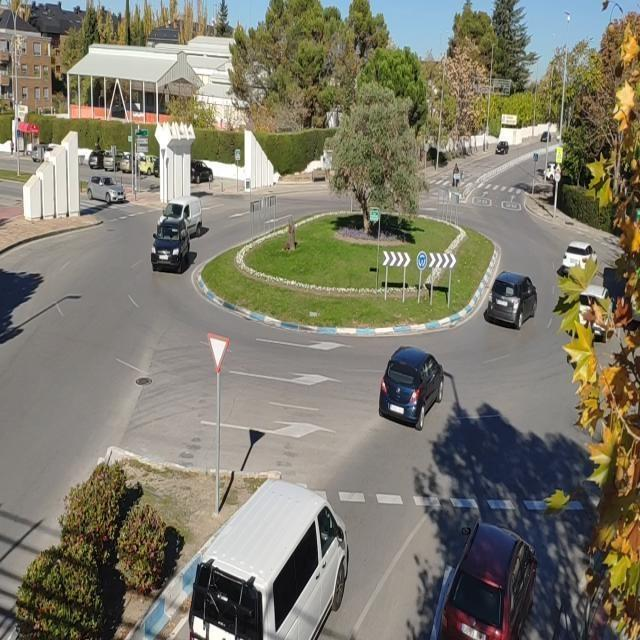Car: (432, 520, 540, 640), (378, 346, 446, 430), (485, 271, 538, 330), (150, 220, 191, 272), (577, 286, 611, 340), (562, 241, 598, 275), (86, 175, 125, 205), (102, 150, 130, 172), (120, 151, 145, 174), (190, 161, 213, 183), (136, 154, 158, 176), (88, 150, 107, 170), (30, 144, 50, 163), (544, 162, 562, 182), (44, 143, 59, 163), (495, 140, 509, 154), (153, 157, 160, 177), (540, 131, 551, 142)
Van: (186, 478, 349, 640), (156, 195, 202, 237)
